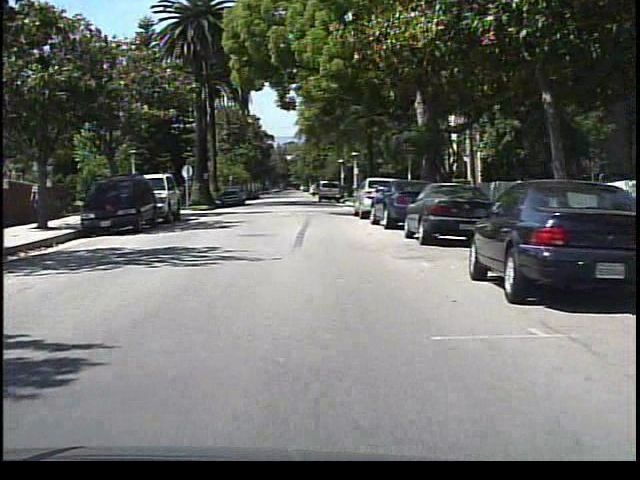person: (26, 177, 45, 225)
